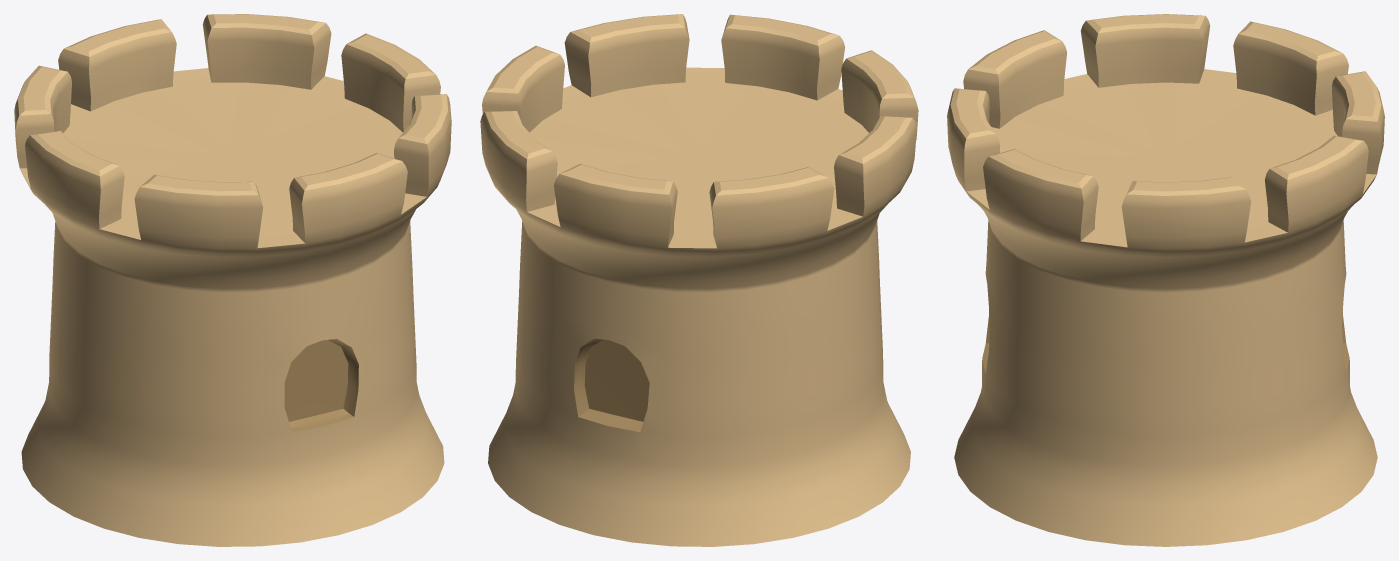
Rendered from CastleTowerShort.fbx.
3 renders of one model, left to right at view 1: azimuth 30°, elevation 25°; view 2: azimuth 150°, elevation 25°; view 3: azimuth 270°, elevation 25°, orthographic.
Visible parts, largest first — view 1: Cylinder.066; view 2: Cylinder.066; view 3: Cylinder.066.
Boxes of the visible parts, x1,y1,x2,y2 form: Cylinder.066: (14, 14, 451, 546); Cylinder.066: (480, 14, 918, 546); Cylinder.066: (947, 14, 1384, 546).
Bounding box in the file's own units: 364 × 325 × 364.
